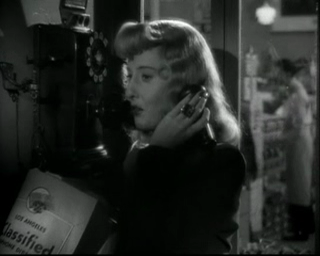face: (124, 61, 167, 128)
mcu: (1, 1, 320, 256)
person: (108, 18, 247, 253)
